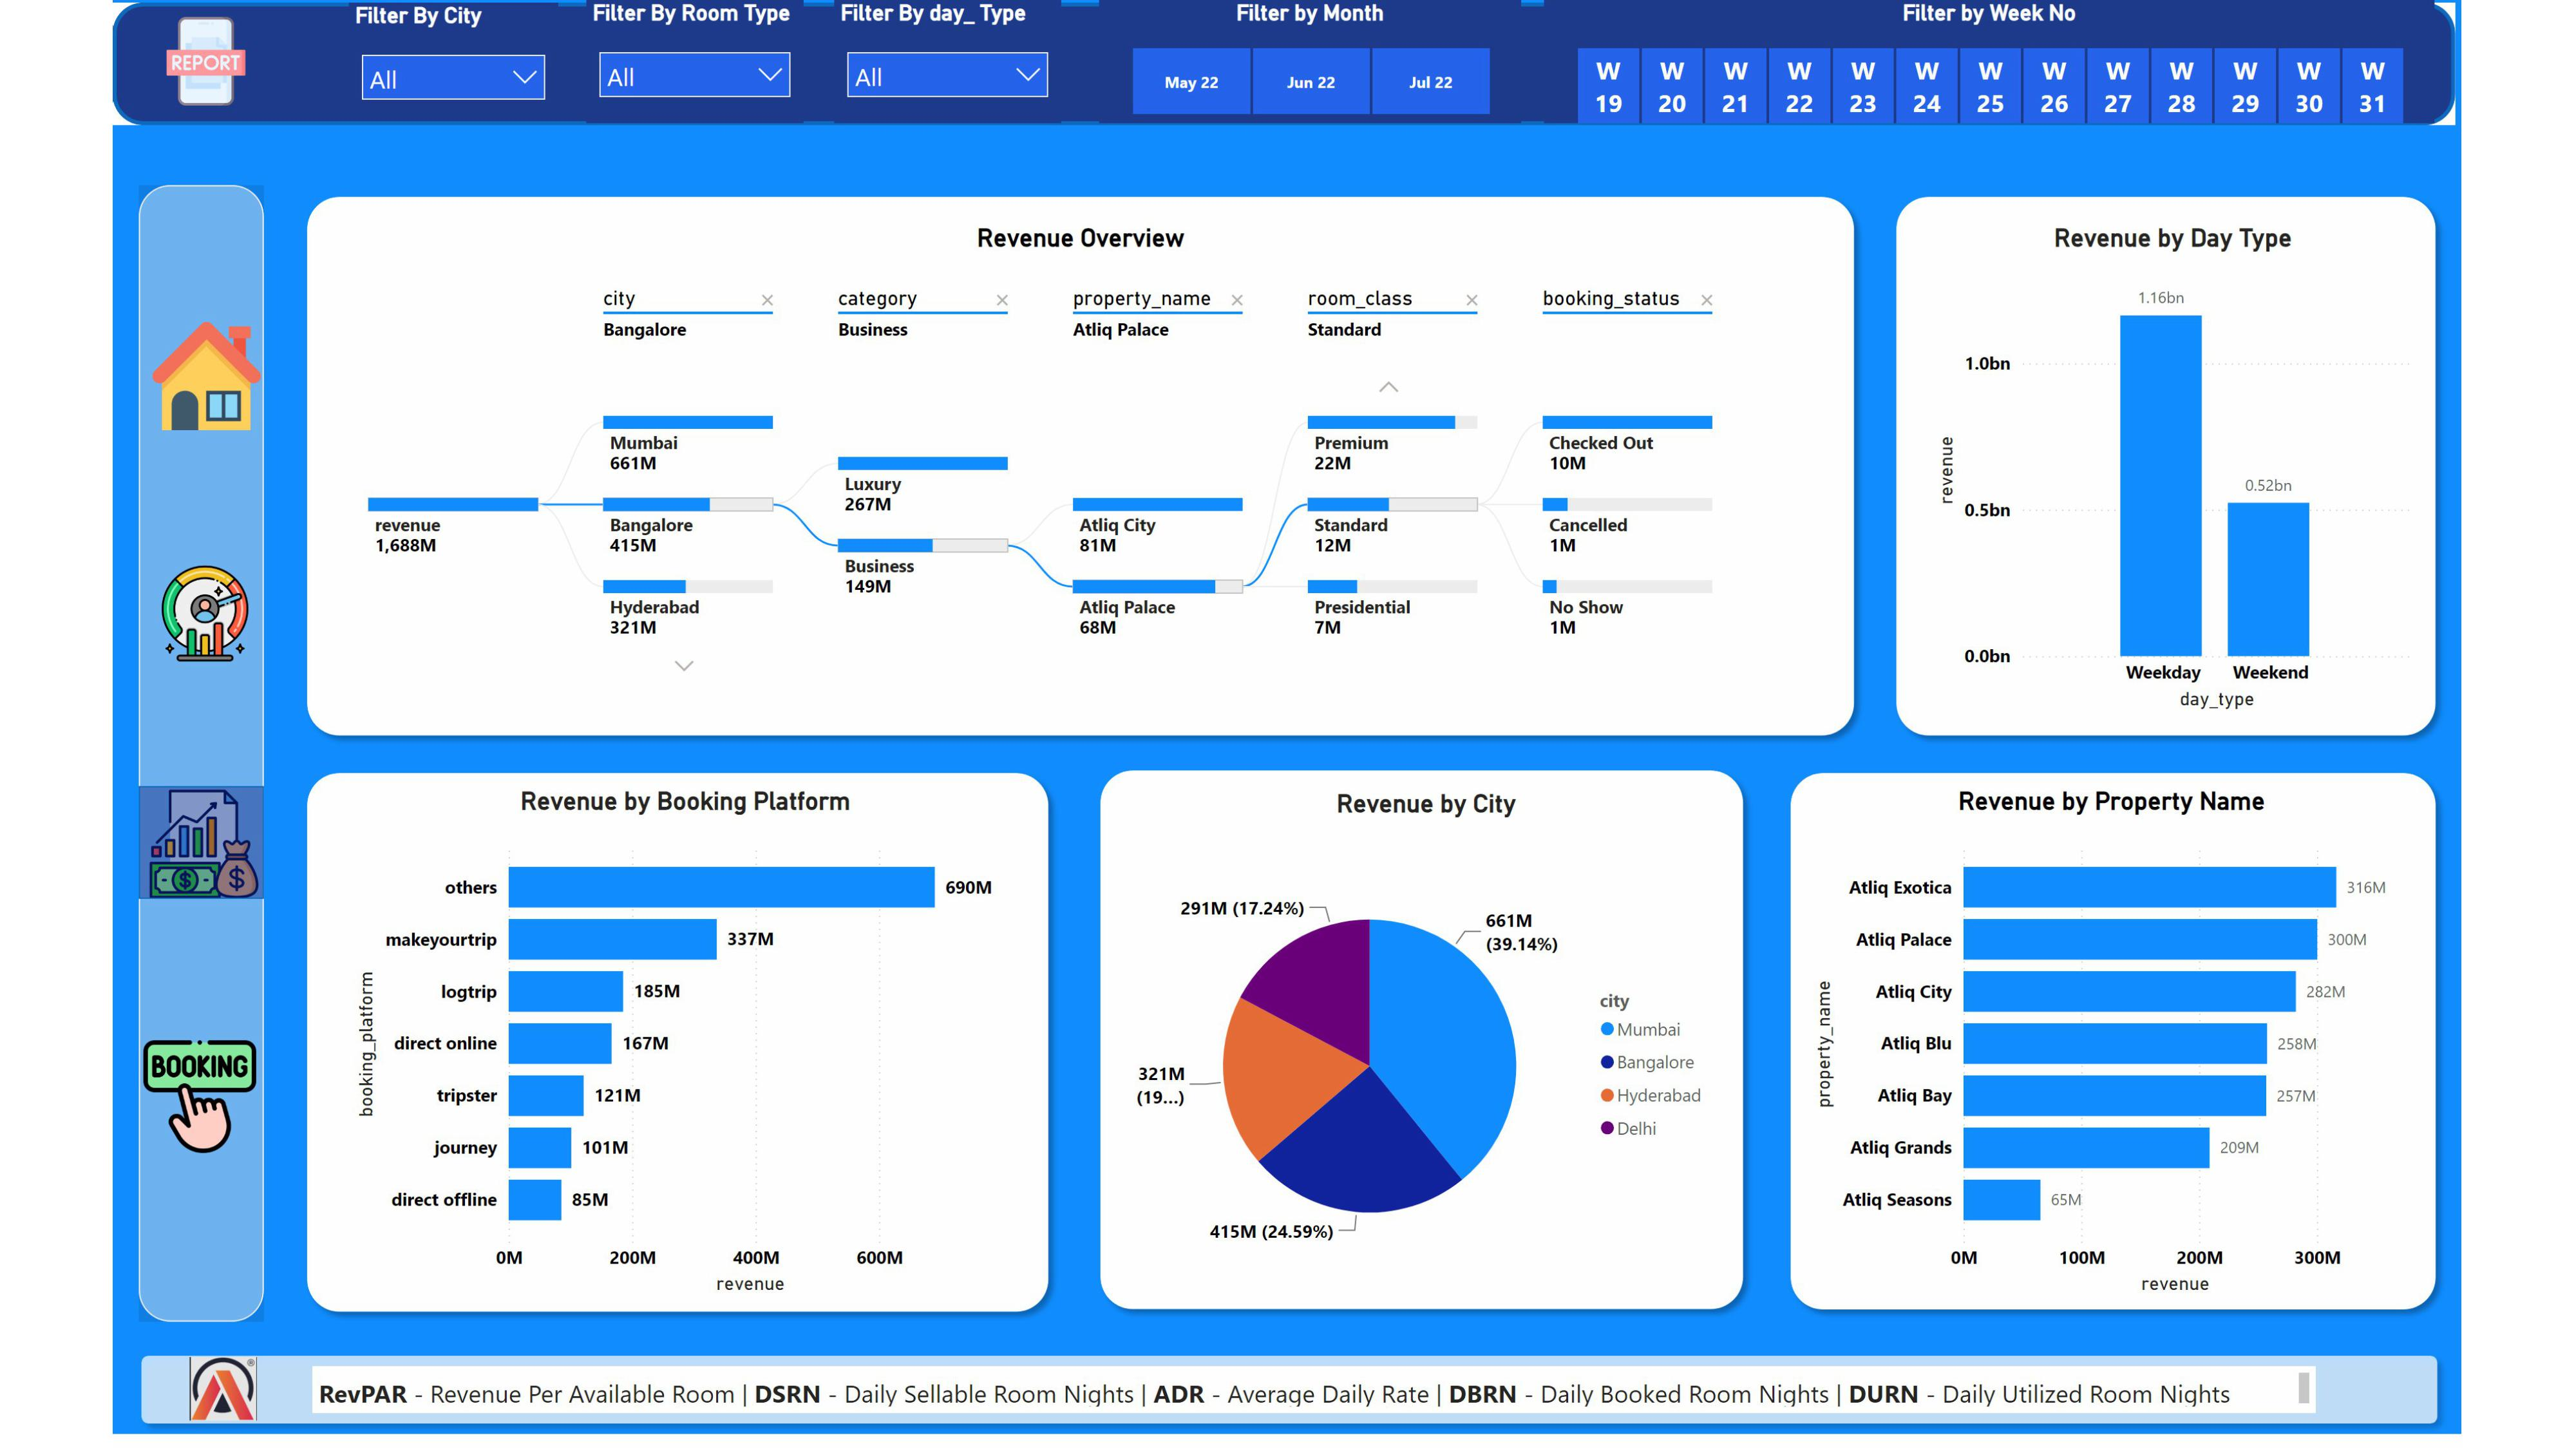

Layout of this report page (visuals, bound fields, positions):
{"tool":"powerbi","page":{"name":"Revenue Overview","canvas":[1800,1100],"ordinal":3},"visuals":[{"type":"shape","box":[1277.3,584.3,512.4,429.5],"z":0},{"type":"shape","box":[748.3,582.4,510.6,431.3],"z":1000},{"type":"shape","box":[140.1,584.3,586.1,431.3],"z":2000},{"type":"shape","box":[1358.4,141.9,431.3,431.3],"z":3000},{"type":"shape","box":[0,1.8,1795.3,94],"z":4000},{"type":"shape","box":[140.1,141.9,1203.6,431.3],"z":5000},{"type":"slicer","title":"Filter by Week No","fields":{"Values":["dim_date.week no"]},"box":[1096.7,0,682.7,94.6],"z":6000},{"type":"slicer","title":"Filter by Month","fields":{"Values":["dim_date.mmm yy"]},"box":[755.7,0,323.4,94.6],"z":7000},{"type":"slicer","title":"Filter By City","fields":{"Values":["dim_hotels.city"]},"box":[180.6,1.8,160.4,90.3],"z":8000},{"type":"slicer","title":"Filter By Room Type","fields":{"Values":["dim_rooms.room_class"]},"box":[363.1,0,166.4,94.6],"z":9000},{"type":"shape","box":[13.2,1030.7,1777.7,70],"z":10000},{"type":"image","box":[46.8,1041.1,75.2,48.8],"z":11000},{"type":"textbox","box":[153.2,1047.7,1535.6,35.9],"z":12000},{"type":"slicer","title":"Filter By day_ Type","fields":{"Values":["dim_date.day_type"]},"box":[553,0,174,94.6],"z":13000},{"type":"image","title":"Report Switch","box":[12.9,12.9,117.3,68.1],"z":14000},{"type":"group","id":"g1","title":"Menu","box":[81.1,91.5,544.7,102.3],"z":15000},{"type":"decompositionTreeVisual","title":"Revenue Overview","fields":{"Analyze":["key_measures.revenue"],"ExplainBy":["dim_hotels.city","dim_hotels.category","dim_hotels.property_name","dim_rooms.room_class","fact_bookings.booking_status"]},"box":[165.9,171.4,1152,377.9],"z":16000},{"type":"columnChart","title":"Revenue by Day Type","fields":{"Category":["dim_date.day_type"],"Y":["key_measures.revenue"]},"box":[1391.6,171.4,374.2,377.9],"z":17000},{"type":"clusteredBarChart","title":"Revenue by Booking Platform","fields":{"Category":["fact_bookings.booking_platform"],"Y":["key_measures.revenue"]},"box":[180.6,602.7,516.1,394.4],"z":18000},{"type":"pieChart","title":"Revenue by City","fields":{"Category":["dim_hotels.city"],"Y":["key_measures.revenue"]},"box":[781.5,604.6,449.7,392.6],"z":19000},{"type":"clusteredBarChart","title":"Revenue by Property Name","fields":{"Category":["dim_hotels.property_name"],"Y":["key_measures.revenue"]},"box":[1297.6,602.7,468.2,394.4],"z":20000},{"type":"shape","box":[20.3,141.9,95.8,871.8],"z":20001},{"type":"image","box":[22.9,246.6,97.7,82.9],"z":20002},{"type":"image","box":[22.1,433.1,97.7,75.6],"z":20003},{"type":"image","box":[22.1,604.6,95.8,84.8],"z":20004},{"type":"image","box":[18.4,798.1,97.7,86.6],"z":20005},{"type":"shape","box":[20.3,602.7,95.8,86.6],"z":20006}]}

Visuals, with their boxes on the page's 1800x1100 design canvas (x1, y1, x2, y2). These are canvas units, not pixel positions in the 2576x1449 screenshot, which may show the page scaled, cropped or inside an application window:
shape: detection(1277, 584, 1790, 1014)
shape: detection(748, 582, 1259, 1014)
shape: detection(140, 584, 726, 1016)
shape: detection(1358, 142, 1790, 573)
shape: detection(0, 2, 1795, 96)
shape: detection(140, 142, 1344, 573)
"Filter by Week No" slicer: detection(1097, 0, 1779, 95)
"Filter by Month" slicer: detection(756, 0, 1079, 95)
"Filter By City" slicer: detection(181, 2, 341, 92)
"Filter By Room Type" slicer: detection(363, 0, 530, 95)
shape: detection(13, 1031, 1791, 1101)
image: detection(47, 1041, 122, 1090)
textbox: detection(153, 1048, 1689, 1084)
"Filter By day_ Type" slicer: detection(553, 0, 727, 95)
"Report Switch" image: detection(13, 13, 130, 81)
"Menu" group: detection(81, 92, 626, 194)
"Revenue Overview" decompositionTreeVisual: detection(166, 171, 1318, 549)
"Revenue by Day Type" columnChart: detection(1392, 171, 1766, 549)
"Revenue by Booking Platform" clusteredBarChart: detection(181, 603, 697, 997)
"Revenue by City" pieChart: detection(782, 605, 1231, 997)
"Revenue by Property Name" clusteredBarChart: detection(1298, 603, 1766, 997)
shape: detection(20, 142, 116, 1014)
image: detection(23, 247, 121, 330)
image: detection(22, 433, 120, 509)
image: detection(22, 605, 118, 689)
image: detection(18, 798, 116, 885)
shape: detection(20, 603, 116, 689)
